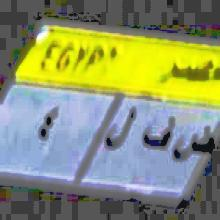4: (39, 96, 59, 146)
daad: (174, 126, 214, 166)
faa: (142, 109, 174, 150)
laam: (104, 104, 137, 151)
